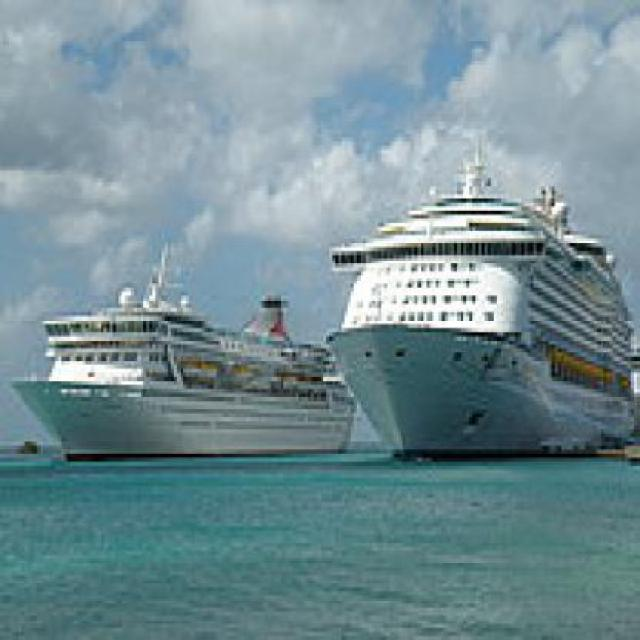cruise: (315, 122, 638, 475), (1, 228, 367, 463)
